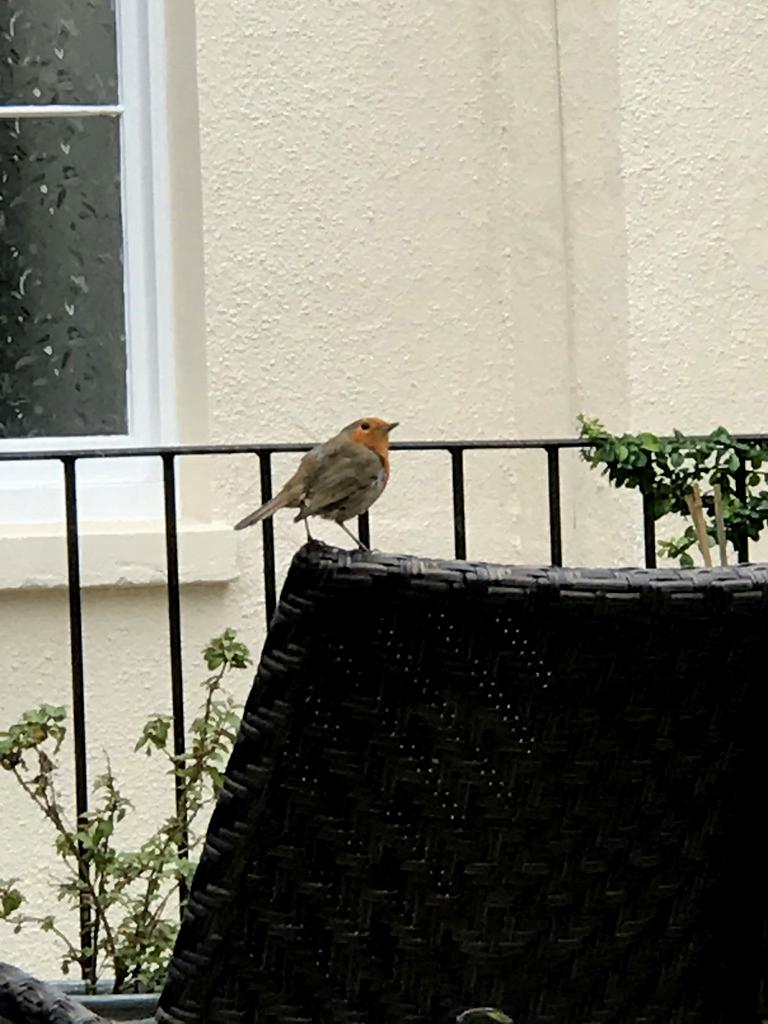ErithacusRubecula: (233, 416, 400, 553)
